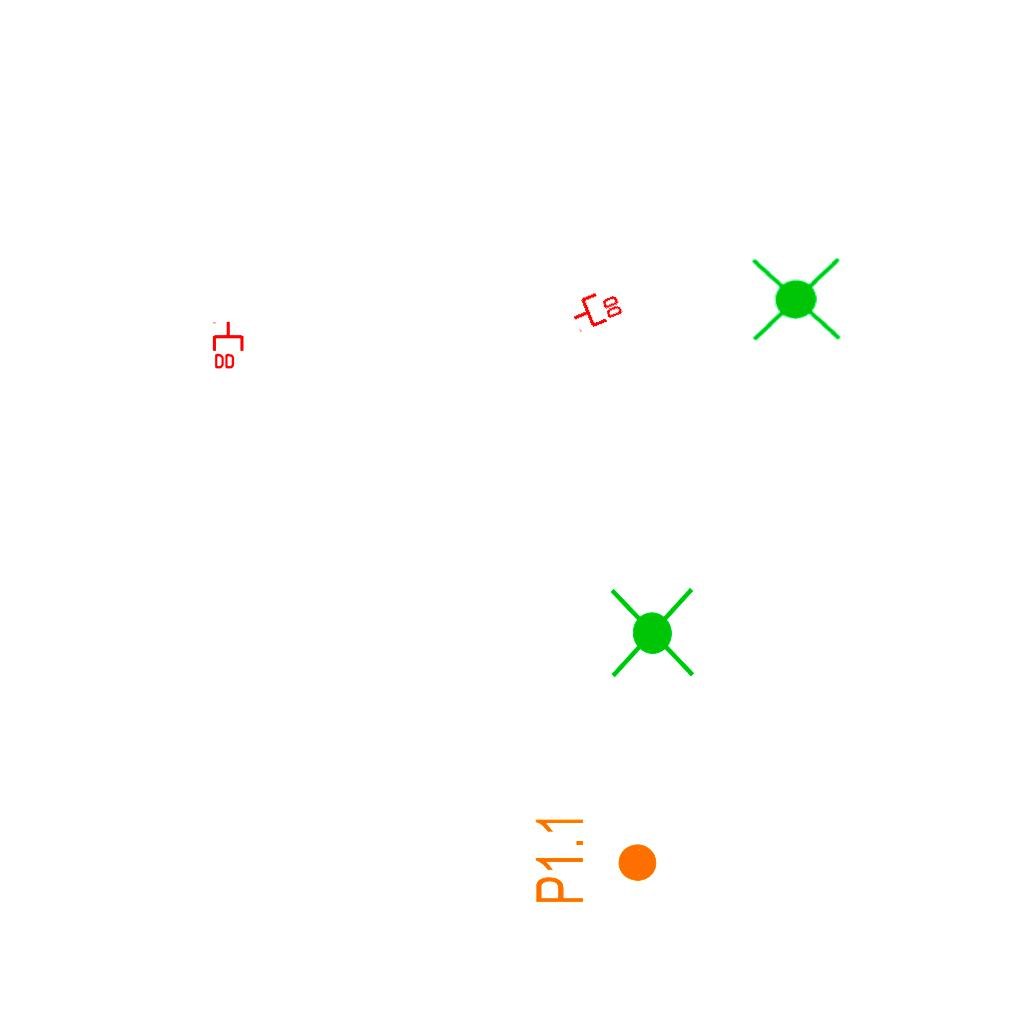Datenanschluss_zweifach: (565, 283, 627, 334), (212, 320, 246, 371)
Downlight_LED_Einbauleuchten_Flur_2: (532, 813, 660, 906)
Notlichtbaustein_in_Allgemeinbeleuchtug_engebaut_Einbau_(1UG_und_2UG_Aufbauvaria: (746, 249, 846, 352), (602, 583, 705, 683)
